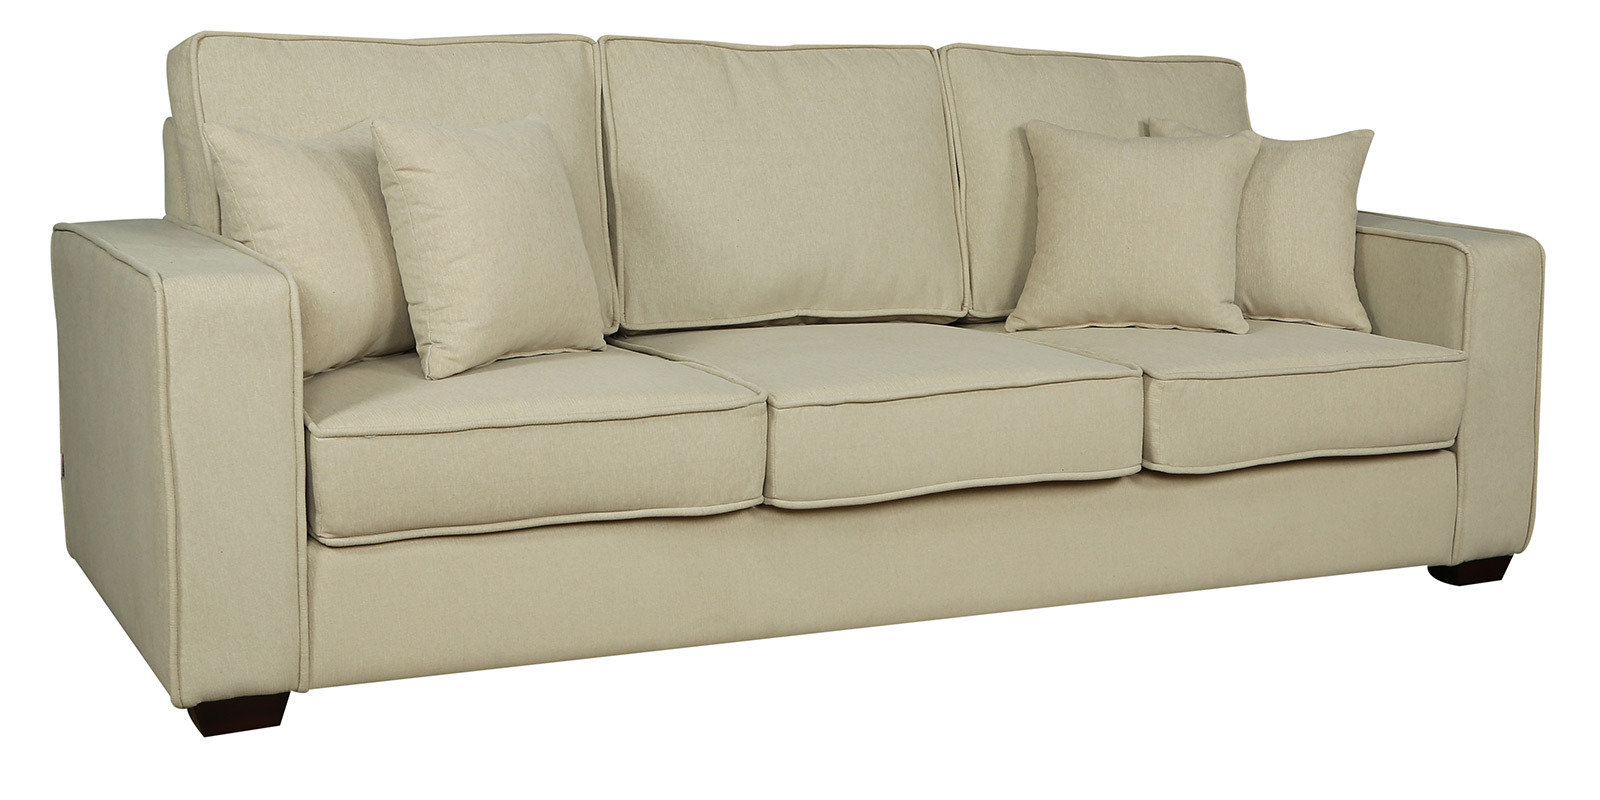Hugo Three Seater Sofa in Beige Colour by CasaCraft: (39, 19, 1576, 758)
